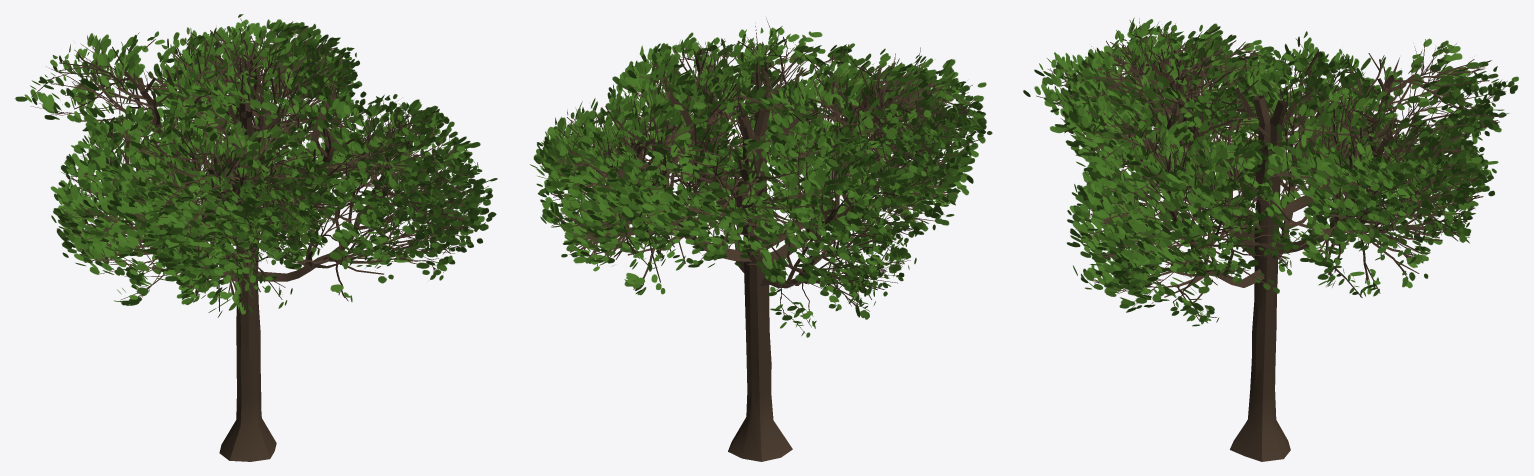
3 views of the same model, side by side, from view 1: azimuth 30°, elevation 25°; view 2: azimuth 150°, elevation 25°; view 3: azimuth 270°, elevation 25° (orthographic). The views are drawn at different scales.
Visible parts, largest first — view 1: oak 01.001_trunk_Mat.001_0.081; view 2: oak 01.001_trunk_Mat.001_0.081; view 3: oak 01.001_trunk_Mat.001_0.081.
Boxes of the visible parts, x1,y1,x2,y2 form: oak 01.001_trunk_Mat.001_0.081: (15, 14, 497, 461); oak 01.001_trunk_Mat.001_0.081: (530, 18, 992, 461); oak 01.001_trunk_Mat.001_0.081: (1023, 17, 1518, 461).
Size of the model in its own units: 4.39 by 4.02 by 4.89.
2 materials, 1 textured.
